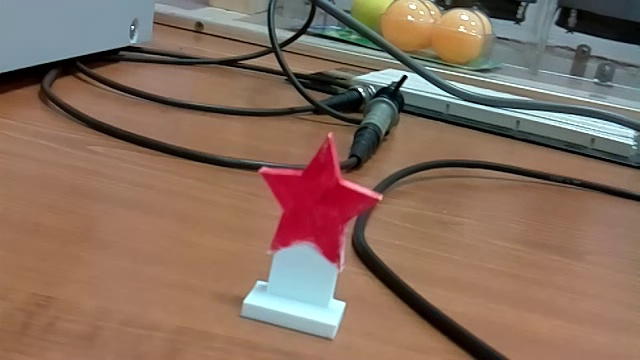star: (224, 128, 399, 348)
